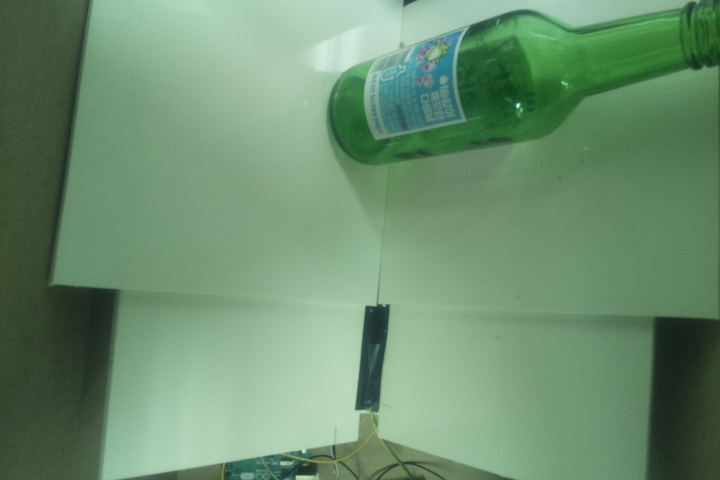soju: (325, 1, 720, 166)
